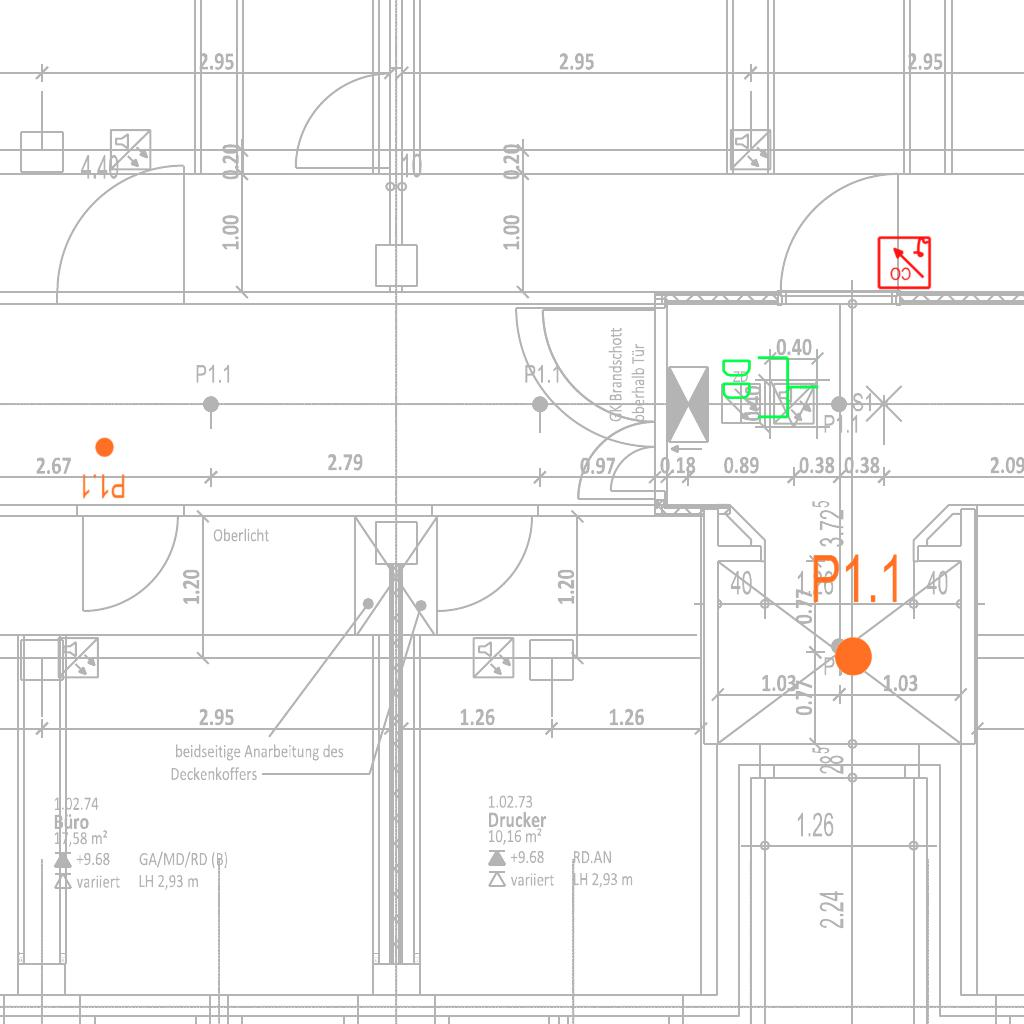Datenanschluss_zweifach: (718, 352, 821, 421)
Downlight_LED_Einbauleuchten_Flur: (810, 551, 903, 679), (80, 436, 126, 500)
ROA_Rauchmelder_optisch_mit_Signalgeber_(Sockelsirene): (876, 234, 932, 290)
